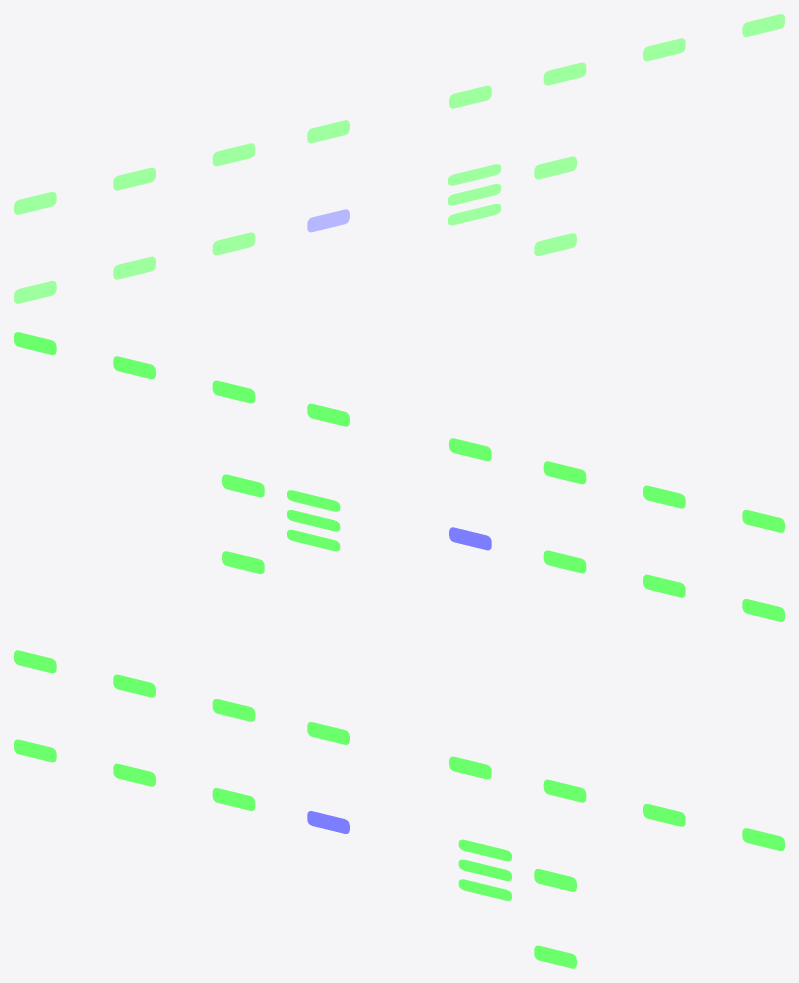
The model's file is EMA245_Indicators.fbx.
3 views of the same model, one above another, from view 1: azimuth 30°, elevation 25°; view 2: azimuth 150°, elevation 25°; view 3: azimuth 330°, elevation 25° (orthographic).
Parts seen in each view (by area): view 1: I_COM2_Mic, I_Nav1, I_Spkr, I_Radio_Mute, I_Mute, I_COM2, I_Nav2, I_ICS_I_Pilot, I_Tel, I_Music, I_ICS_I_Crew, I_COM1_Mic (+5 smaller); view 2: I_COM2_Mic, I_Nav1, I_Spkr, I_Radio_Mute, I_Mute, I_COM2, I_Nav2, I_ICS_I_Pilot, I_Tel, I_Music, I_ICS_I_Crew, I_COM1_Mic (+5 smaller); view 3: I_Radio_Mute, I_Music, I_Nav1, I_Spkr, I_COM1_Mic, I_COM2_Mic, I_Aux, I_ICS_I_Crew, I_COM1, I_COM2, I_Nav2, I_Mute (+5 smaller).
Part boxes in pixels (<box>): I_COM2_Mic: <box>113,256,155,279</box>; I_Nav1: <box>212,143,255,166</box>; I_Spkr: <box>212,232,255,255</box>; I_Radio_Mute: <box>543,62,586,85</box>; I_Mute: <box>643,38,685,61</box>; I_COM2: <box>113,167,155,190</box>; I_Nav2: <box>307,120,349,143</box>; I_ICS_I_Pilot: <box>534,156,576,179</box>; I_Tel: <box>307,209,349,232</box>; I_Music: <box>449,85,491,108</box>; I_ICS_I_Crew: <box>534,233,576,255</box>; I_COM1_Mic: <box>14,281,56,303</box>; I_COM2_Mic: <box>643,574,685,597</box>; I_Nav1: <box>543,461,586,484</box>; I_Spkr: <box>543,550,586,573</box>; I_Radio_Mute: <box>212,380,255,403</box>; I_Mute: <box>113,356,155,379</box>; I_COM2: <box>643,485,685,508</box>; I_Nav2: <box>449,438,491,461</box>; I_ICS_I_Pilot: <box>222,474,264,497</box>; I_Tel: <box>449,527,491,550</box>; I_Music: <box>307,403,349,426</box>; I_ICS_I_Crew: <box>222,551,264,573</box>; I_COM1_Mic: <box>742,599,784,621</box>; I_Radio_Mute: <box>543,779,586,802</box>; I_Music: <box>449,756,491,779</box>; I_Nav1: <box>212,699,255,721</box>; I_Spkr: <box>212,788,255,810</box>; I_COM1_Mic: <box>14,739,56,762</box>; I_COM2_Mic: <box>113,763,155,786</box>; I_Aux: <box>742,828,784,850</box>; I_ICS_I_Crew: <box>534,945,576,968</box>; I_COM1: <box>14,650,56,673</box>; I_COM2: <box>113,674,155,697</box>; I_Nav2: <box>307,722,349,744</box>; I_Mute: <box>643,804,685,826</box>.
Bounding box in the file's own units: 0.163 × 0.037 × 0.002.
